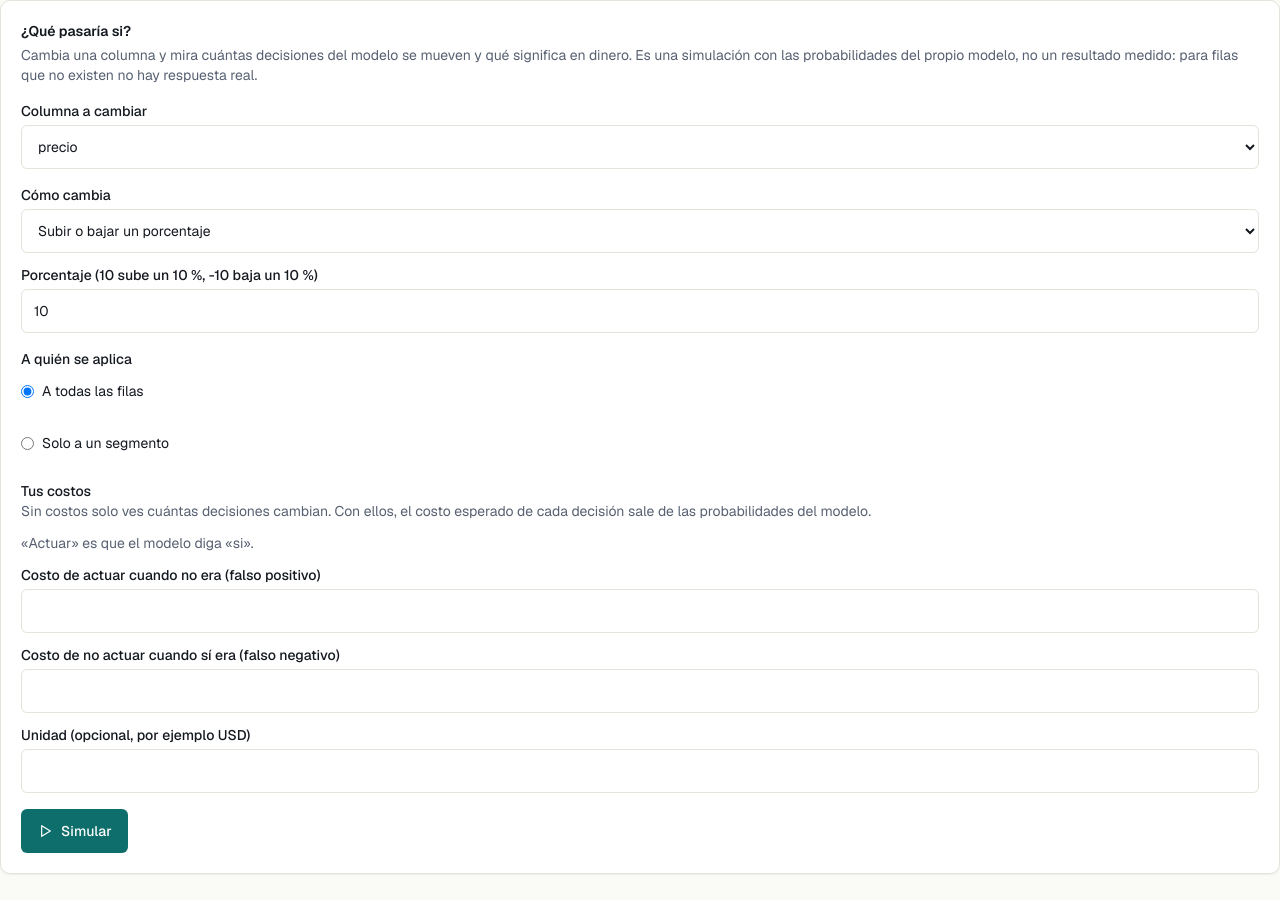
Test: el panel «¿Qué pasaría si?» › un costo que no es mayor que cero se dice, y no se calla (S21, lote 19-03/04)
This screenshot has width=1280, height=900.
Expected: the text "Escribe un número mayor que cero." is not shown
In the field labelled "Costo de actuar cuando no era (falso positivo)": (640, 611) [21, 589, 1259, 633], type "0"
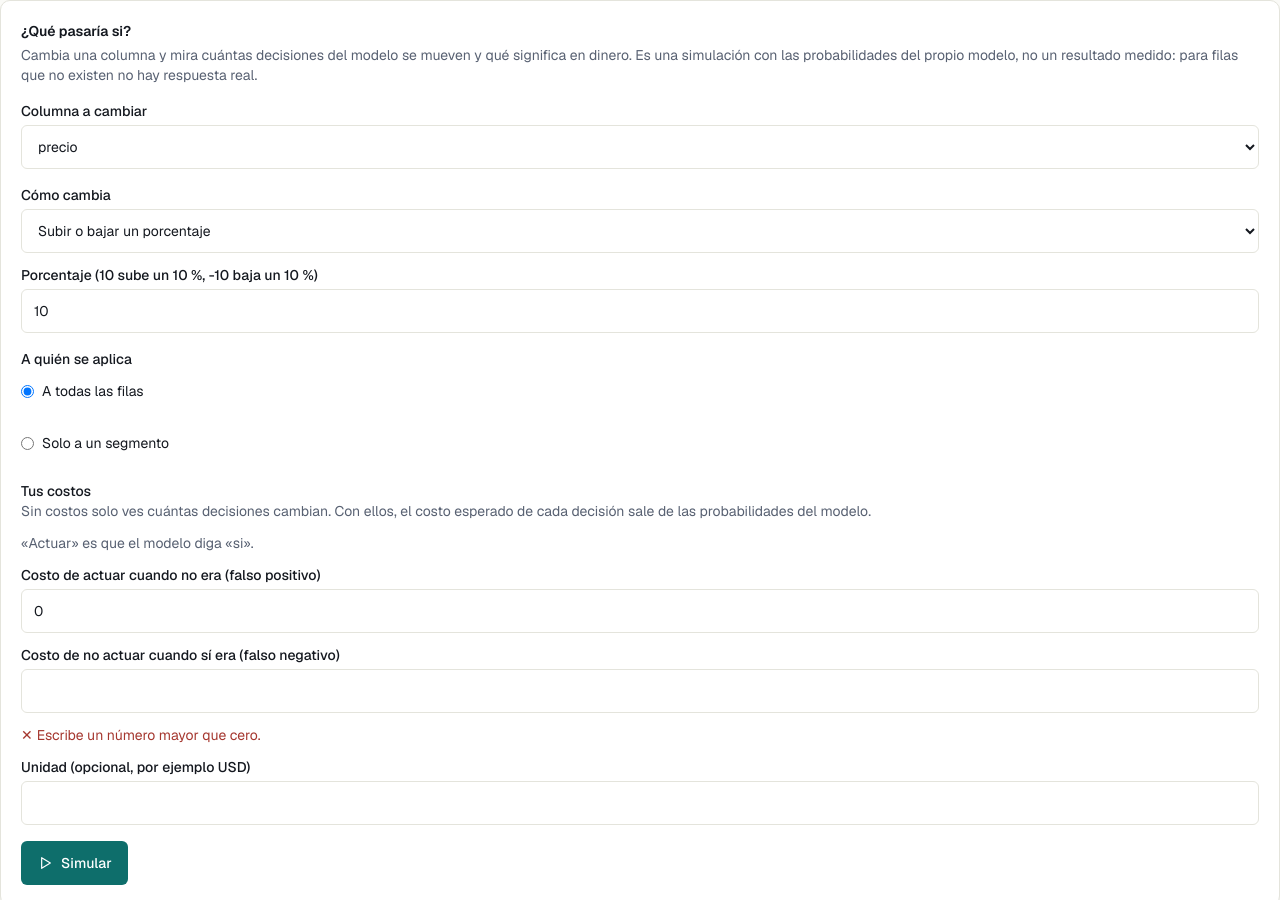
In the field labelled "Costo de no actuar cuando sí era (falso negativo)": (640, 691) [21, 669, 1259, 713], type "30"
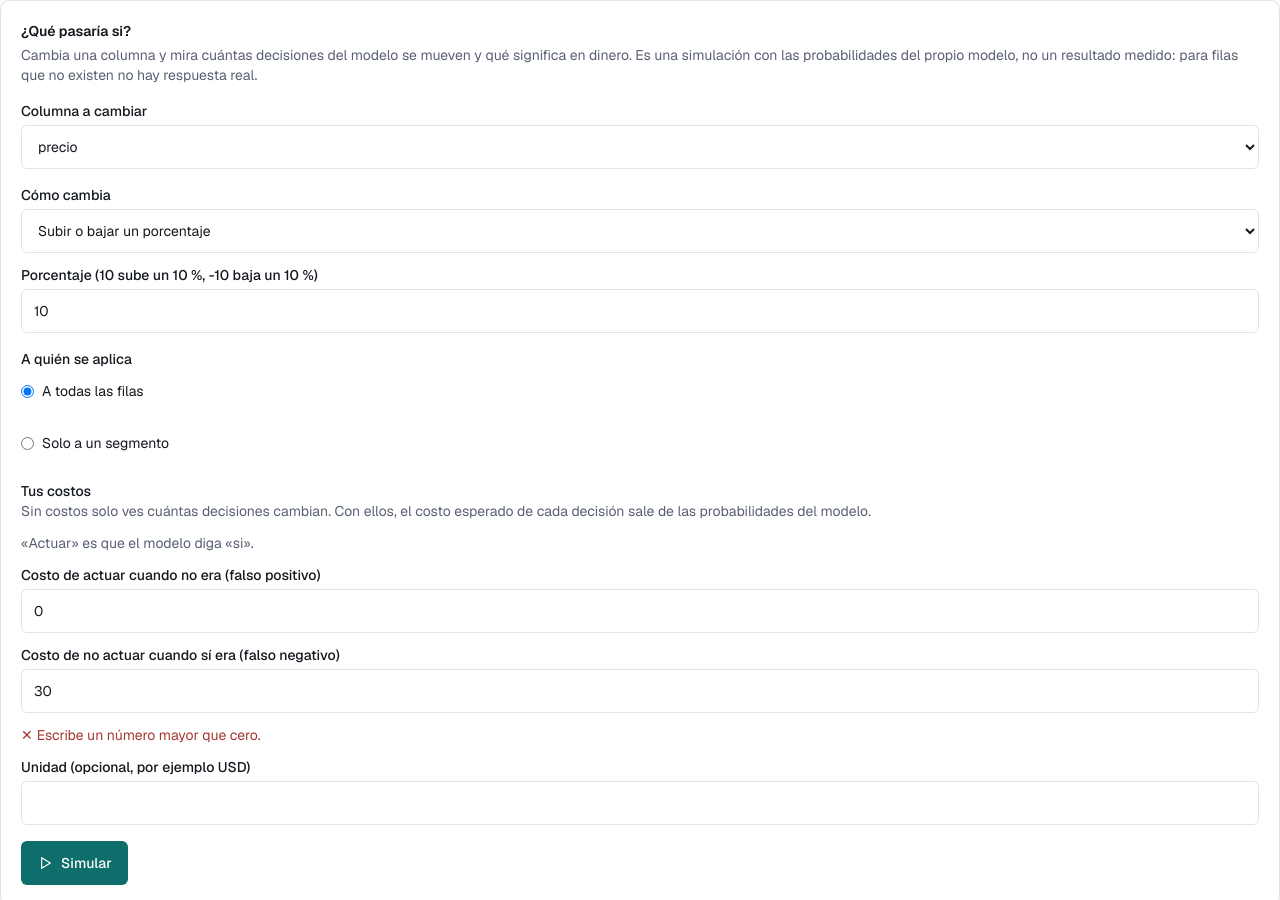
Now the text "Escribe un número mayor que cero." is shown, box [37, 726, 261, 744]
Replace the text in the field labelled "Costo de actuar cuando no era (falso positivo)" with "10": (640, 611) [21, 589, 1259, 633]
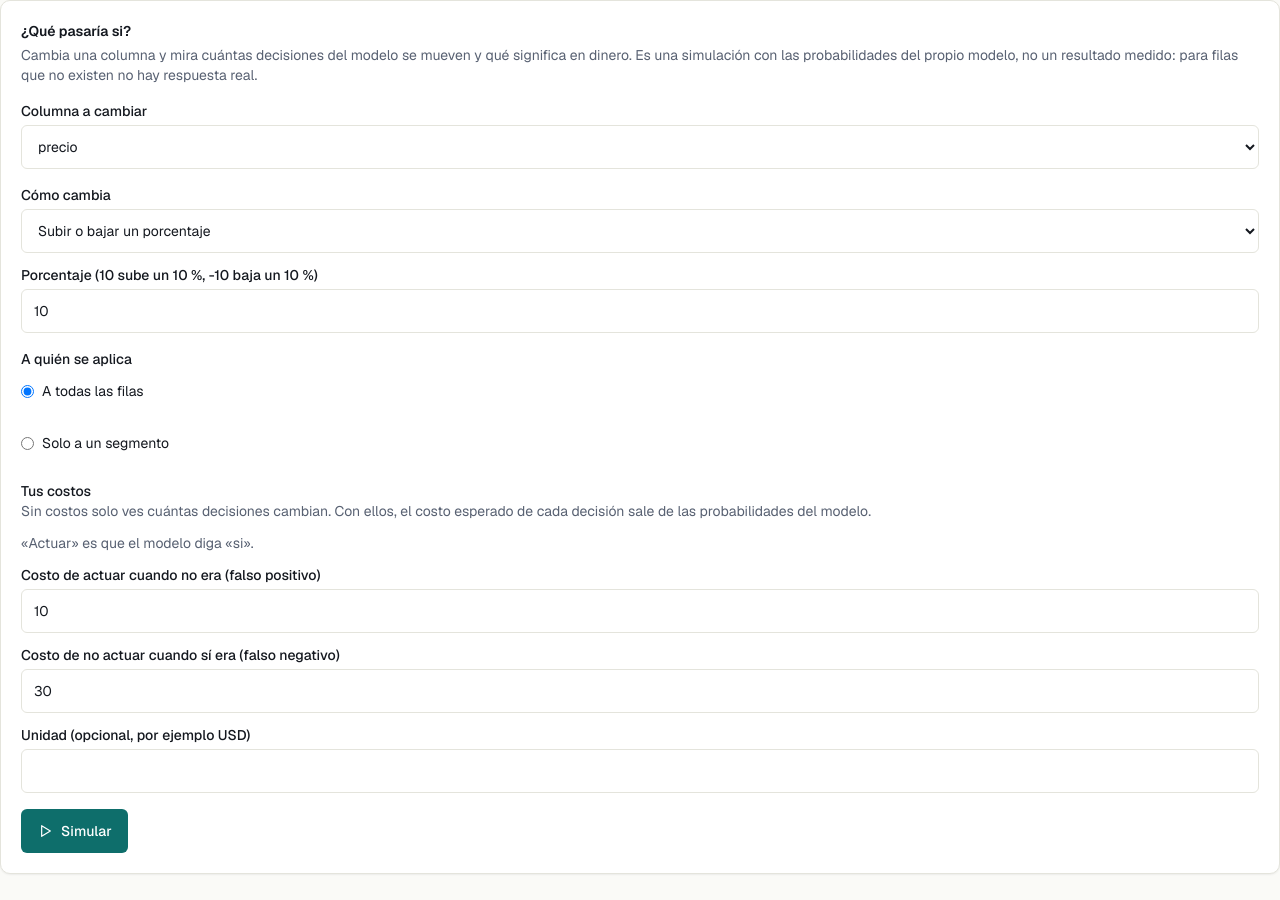
Now the text "Escribe un número mayor que cero." is gone
